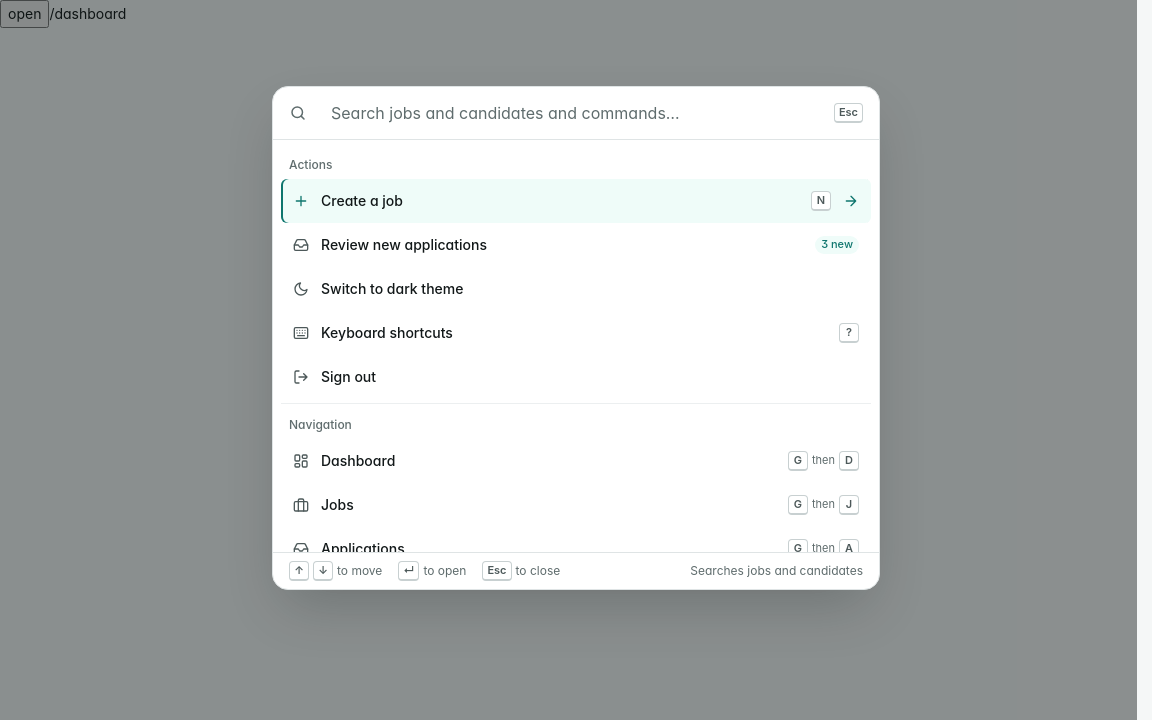
it: CommandPalette › moves with the arrow keys and opens the selection with Enter
The width and height of the screenshot is (1152, 720).
Press End
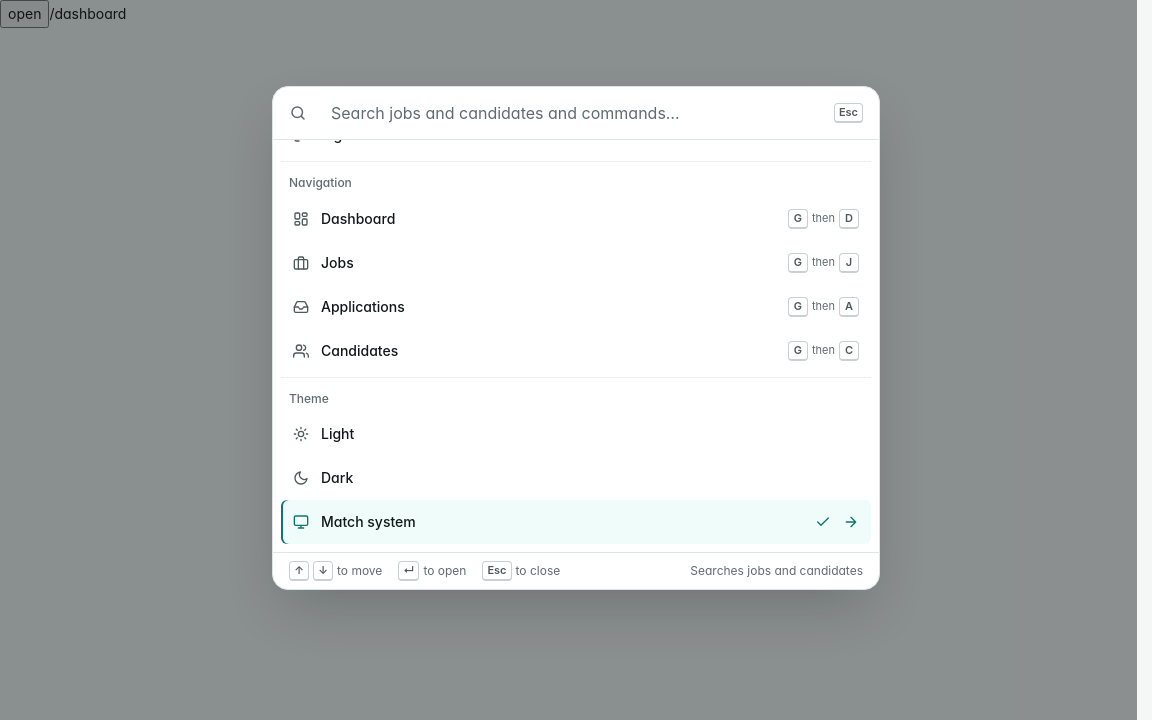
Press Arrowdown
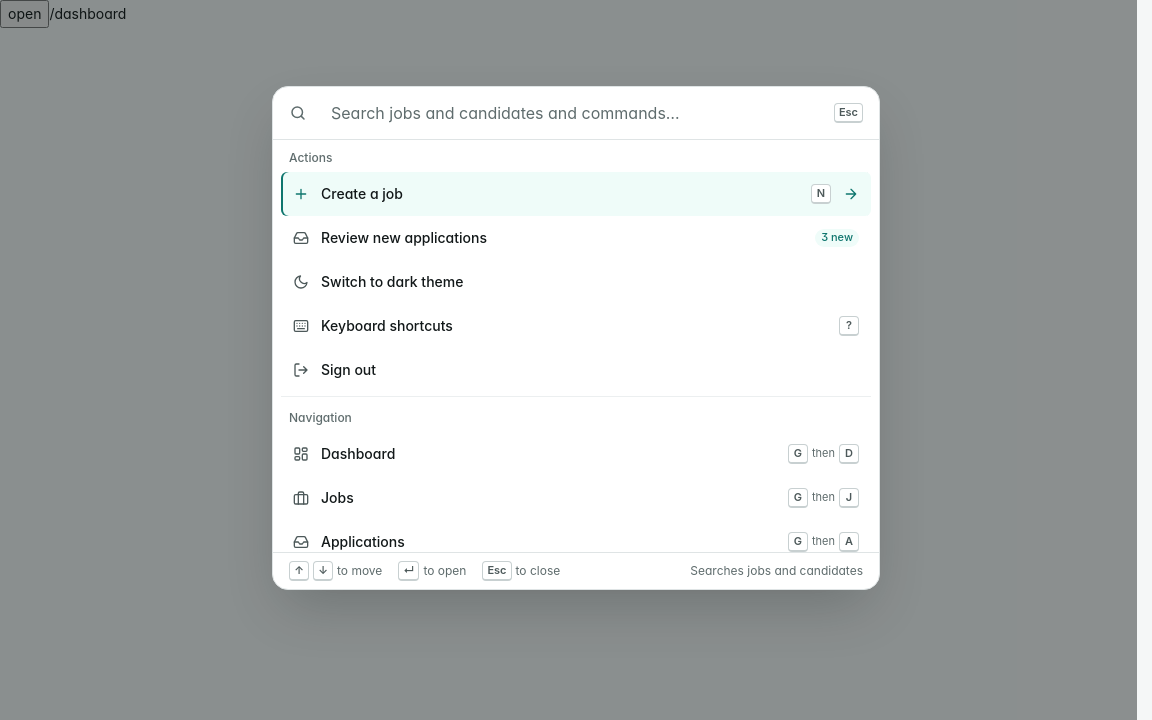
Type "cand" into the dropdown.
click(570, 113); type("cand")  # box left=319, top=87, right=822, bottom=139
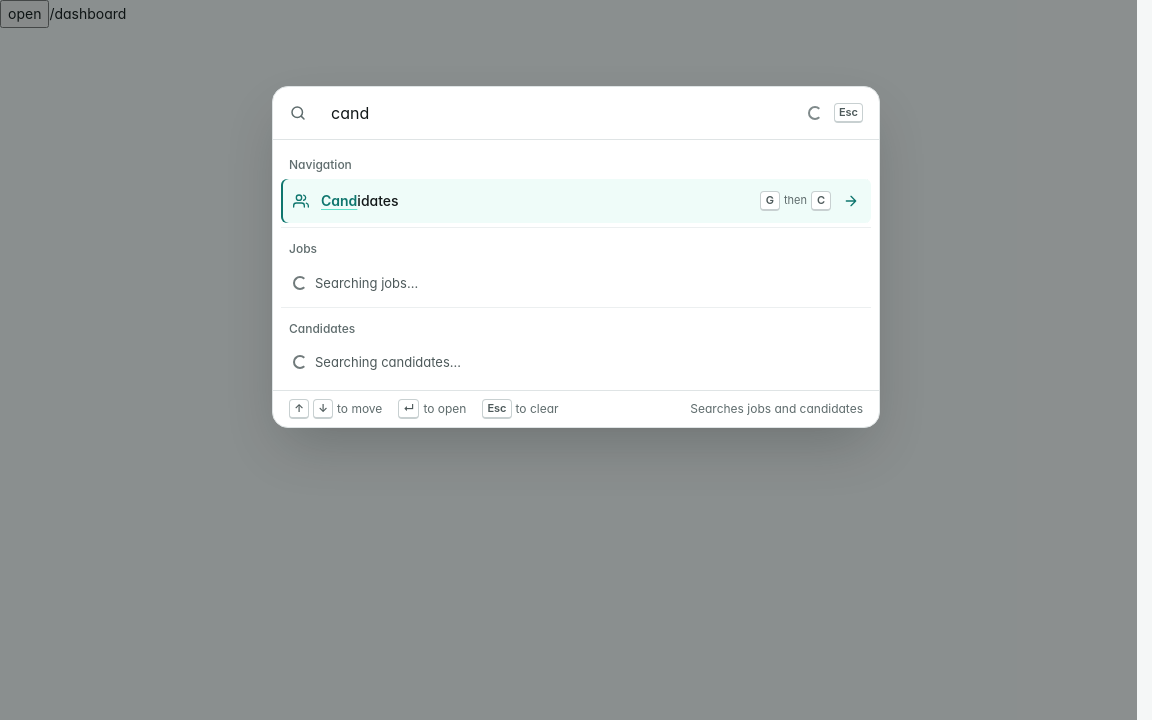
Press Enter
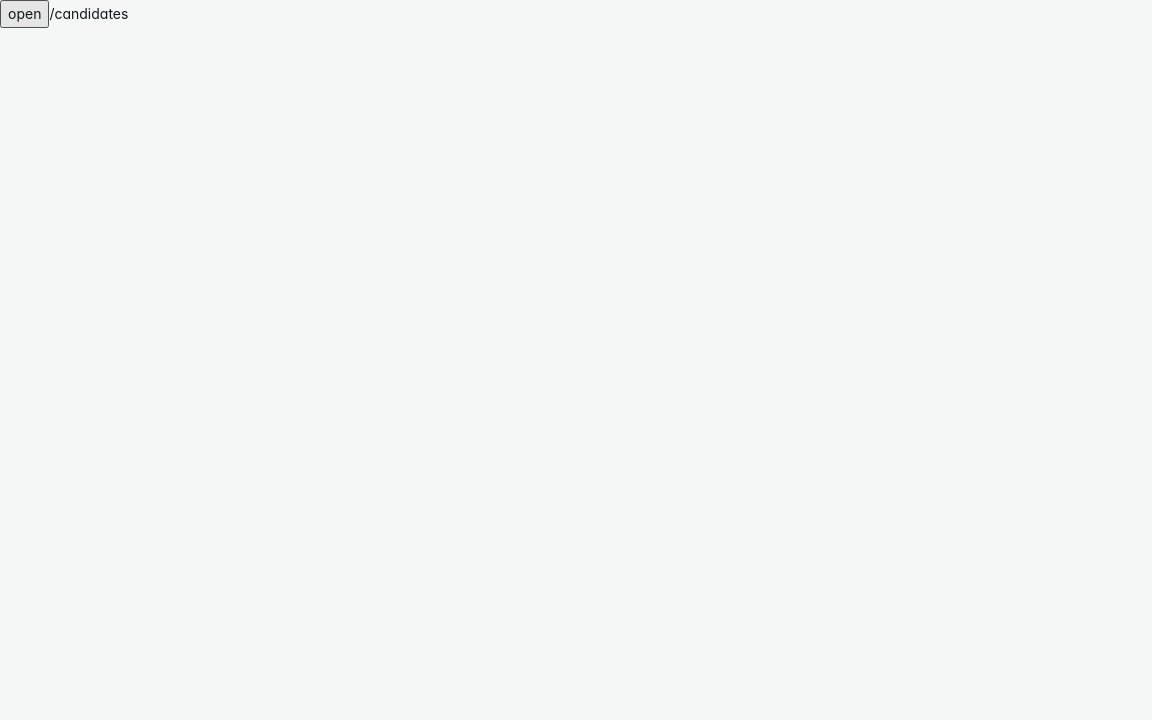
expect the text with test id "where" reads "/candidates": met, box left=49, top=5, right=128, bottom=22
expect the dialog is gone: met
